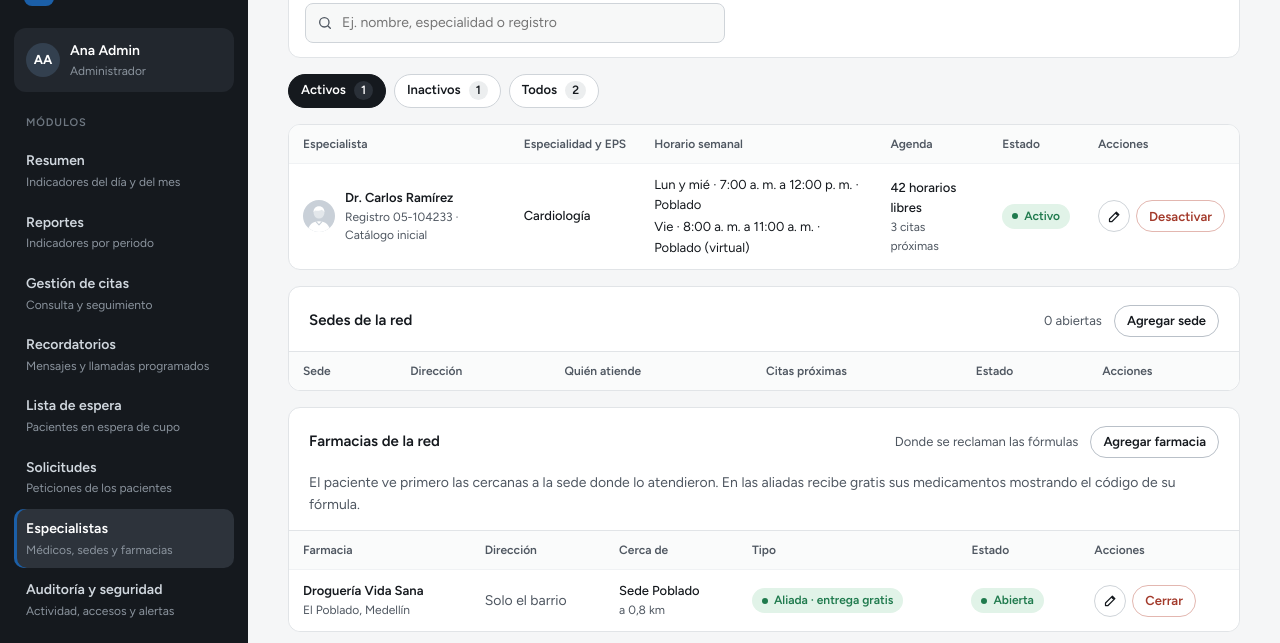
Test case: Farmacias de la red › un error al guardar se muestra y el formulario sigue abierto
(page scrolled)
Step 1. Click the button named "Editar Droguería Vida Sana" → (1110, 601), box [1094,585,1126,617]
(page scrolled)
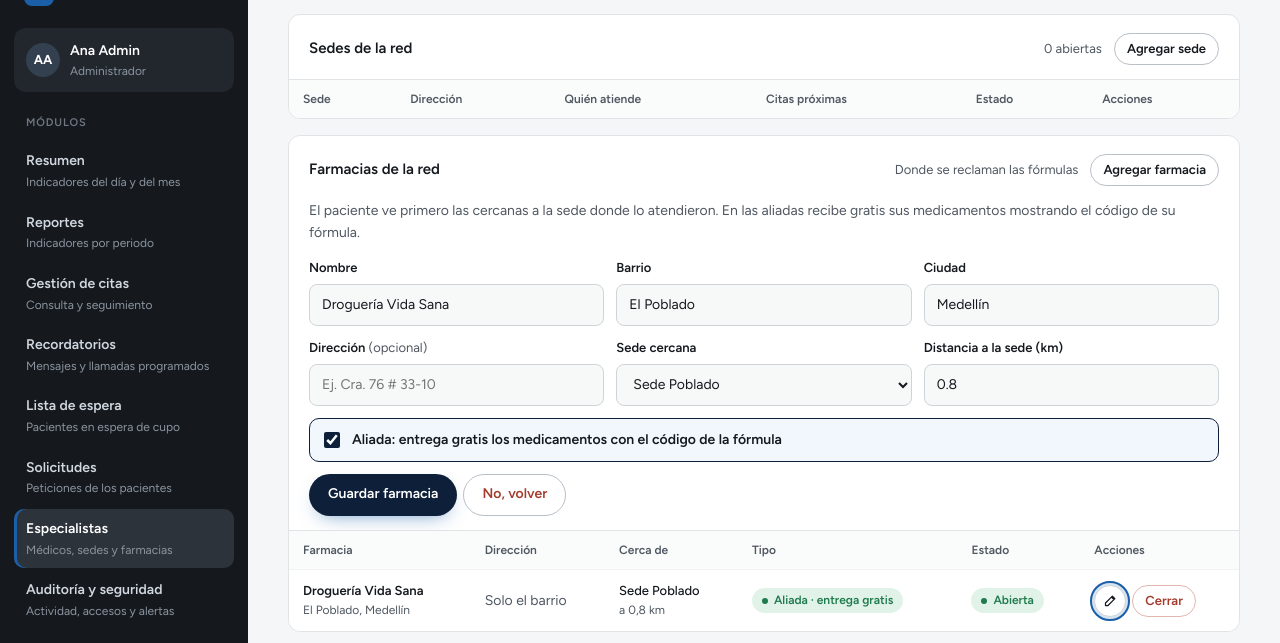
Step 2. Click the button "Guardar farmacia" → (383, 495), box [309,474,457,516]
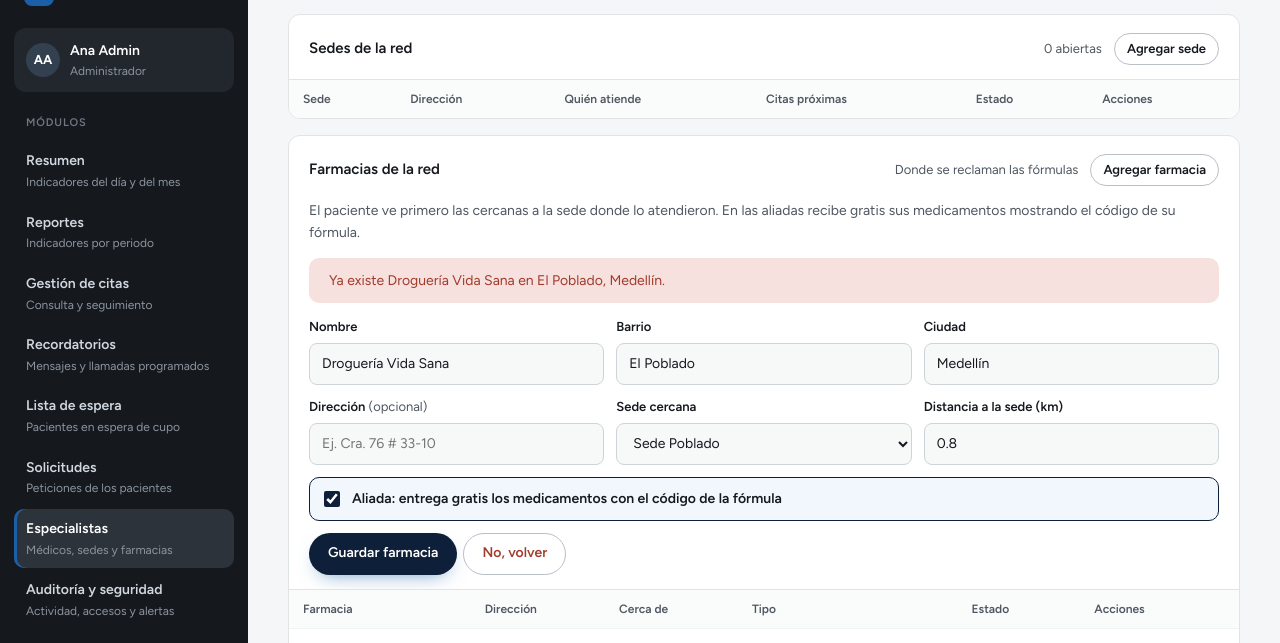
Result: the form named "Editar Droguería Vida Sana" is shown at [309,317,1219,575]
Result: the text "Ya existe Droguería Vida Sana en El Poblado, Medellín." is shown at [309,258,1219,303]
